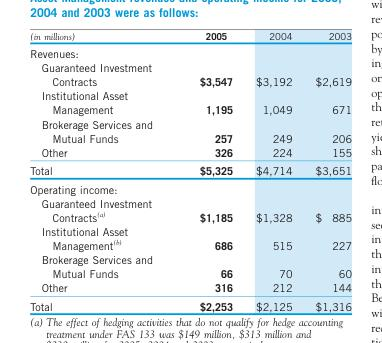table: (29, 29, 351, 312)
table column: (29, 29, 175, 312), (175, 29, 243, 312), (243, 29, 303, 312), (303, 29, 351, 312)
table column header: (29, 29, 351, 43)
table projected row header: (29, 43, 351, 60), (29, 179, 351, 195)
table row: (29, 60, 351, 88), (29, 88, 351, 116), (29, 116, 351, 144), (29, 195, 351, 223), (29, 223, 351, 251), (29, 251, 351, 279), (29, 160, 351, 179), (29, 43, 351, 60), (29, 279, 351, 296), (29, 144, 351, 160), (29, 179, 351, 195), (29, 296, 351, 312), (29, 29, 351, 43)
